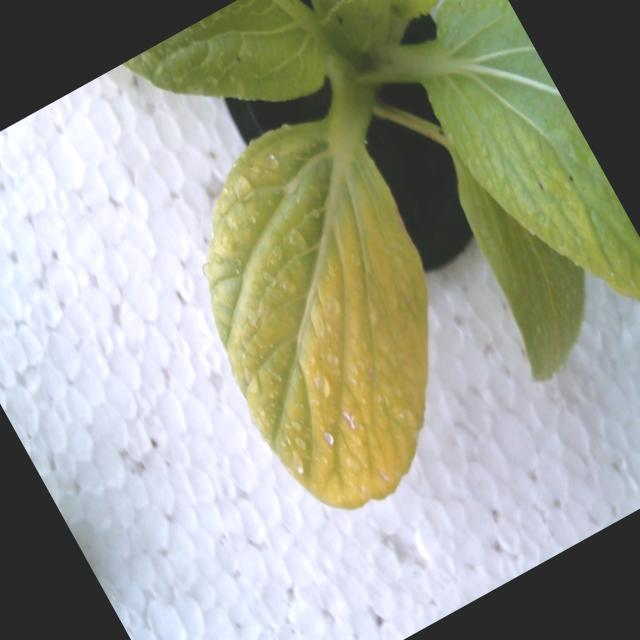pakcoy_tidak_sehat: (26, 0, 640, 629)
